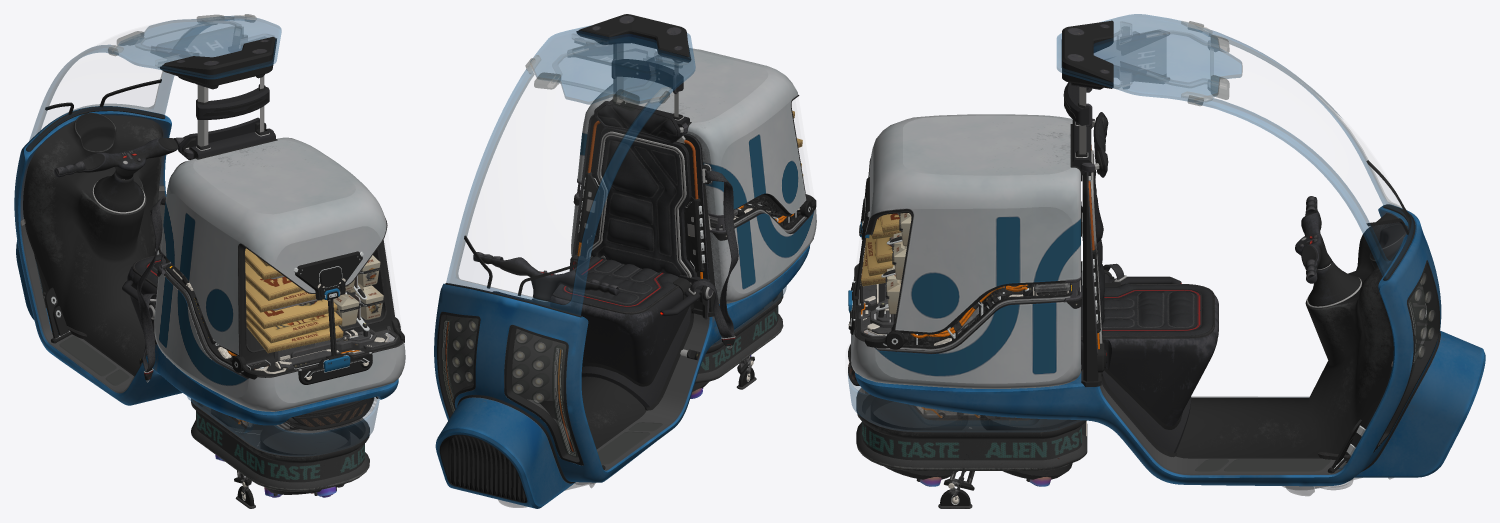
File: moto.glb
3 views of the same model, side by side, from view 1: azimuth 30°, elevation 25°; view 2: azimuth 150°, elevation 25°; view 3: azimuth 270°, elevation 25° (orthographic). The views are drawn at different scales.
Parts seen in each view (by area): view 1: Bake_G2_low.010, Bake_G2_low.005, Bake_G3_low.018, Bake_G2_low.004, Bake_G2_low.001, Bake_G6_low.002, Bake_G1_low.032, Bake_G4_low.004, MainBody_NON_SYMMETRY.013, Bake_G1_low.003, Engine_NON_SYMMETRY.003, Bake_G3_low.020 (+26 smaller); view 2: Bake_G2_low.010, Bake_G3_low.018, Bake_G2_low.007, Bake_G2_low.001, MainBody_NON_SYMMETRY.002, Bake_G5_low.002, MainBody_NON_SYMMETRY.013, Plane.018, Bake_G4_low.004, Bake_G2_low.005, Bake_G1_low.009, Bake_G1_low.036 (+25 smaller); view 3: Bake_G2_low.010, Bake_G3_low.018, Bake_G2_low.005, Bake_G2_low.004, Bake_G2_low.001, MainBody_NON_SYMMETRY.002, Bake_G5_low.002, MainBody_NON_SYMMETRY.013, Bake_G1_low.009, Bake_G4_low.004, Bake_G6_low.002, Bake_G1_low.032 (+9 smaller).
Boxes of the visible parts, box(x1,y1,x2,y2) form: Bake_G2_low.010: box(154, 137, 405, 411); Bake_G2_low.005: box(23, 113, 162, 376); Bake_G3_low.018: box(14, 106, 398, 425); Bake_G2_low.004: box(191, 398, 369, 491); Bake_G2_low.001: box(112, 16, 281, 78); Bake_G6_low.002: box(187, 396, 379, 456); Bake_G1_low.032: box(54, 135, 187, 212); Bake_G4_low.004: box(21, 191, 164, 392); MainBody_NON_SYMMETRY.013: box(27, 16, 243, 149); Bake_G1_low.003: box(161, 37, 275, 77); Engine_NON_SYMMETRY.003: box(211, 408, 350, 497); Bake_G3_low.020: box(137, 196, 165, 372); Bake_G2_low.010: box(571, 48, 816, 303); Bake_G3_low.018: box(434, 245, 809, 482); Bake_G2_low.007: box(591, 105, 686, 277); Bake_G2_low.001: box(530, 26, 695, 104); MainBody_NON_SYMMETRY.002: box(435, 397, 575, 508); Bake_G5_low.002: box(549, 259, 686, 384); MainBody_NON_SYMMETRY.013: box(446, 66, 665, 315); Plane.018: box(445, 315, 574, 453); Bake_G4_low.004: box(554, 299, 708, 470); Bake_G2_low.005: box(446, 291, 646, 456); Bake_G1_low.009: box(554, 256, 678, 311); Bake_G1_low.036: box(437, 311, 583, 465); Bake_G2_low.010: box(851, 114, 1081, 388); Bake_G3_low.018: box(855, 205, 1441, 486); Bake_G2_low.005: box(1176, 213, 1408, 462); Bake_G2_low.004: box(856, 387, 1087, 470); Bake_G2_low.001: box(1057, 14, 1242, 102); MainBody_NON_SYMMETRY.002: box(1338, 324, 1485, 477); Bake_G5_low.002: box(1081, 285, 1218, 426); MainBody_NON_SYMMETRY.013: box(1195, 28, 1413, 278); Bake_G1_low.009: box(1102, 283, 1212, 335); Bake_G4_low.004: box(1098, 367, 1391, 474); Bake_G6_low.002: box(848, 375, 1081, 431); Bake_G1_low.032: box(1295, 197, 1360, 306).
Bounding box in the file's own units: 0.96 × 1.98 × 2.61.
7 materials, 7 textured.
